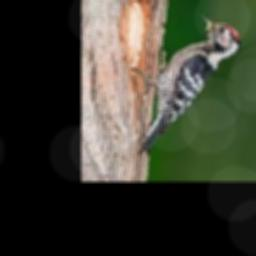Woodpecker: (131, 14, 242, 153)
